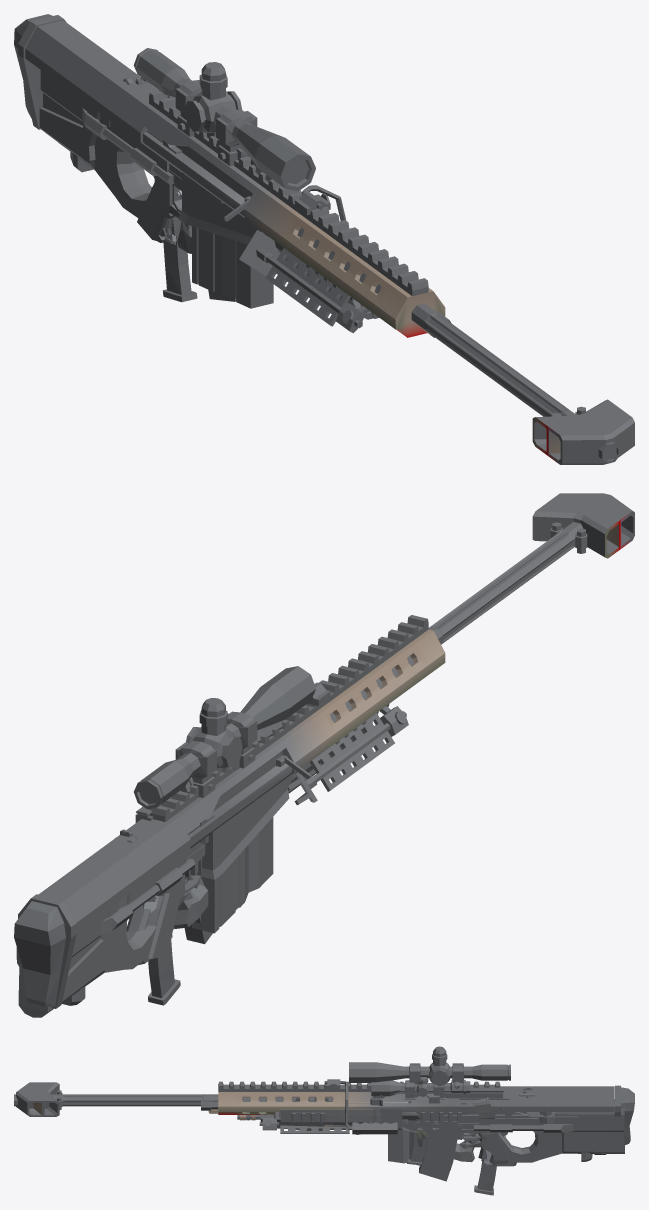
The model's file is weapons.glb.
The picture shows the model from 3 angles, top to bottom: view 1: azimuth 30°, elevation 25°; view 2: azimuth 150°, elevation 25°; view 3: azimuth 270°, elevation 25°; orthographic projection. The views are drawn at different scales.
Parts seen in each view (by area): view 1: launcher, petal, ak47, smg; view 2: launcher, petal, ak47, smg, sunbeam; view 3: launcher, petal, ak47, sunbeam, sniper, smg.
Part boxes in pixels (x1,y1,x2,y2): launcher: (14,14,634,464); petal: (40,70,191,253); ak47: (70,108,434,337); smg: (123,77,197,302); launcher: (14,493,634,1008); petal: (16,845,208,1017); ak47: (62,721,366,1005); smg: (115,829,208,1005); sunbeam: (126,790,212,944); launcher: (14,1046,634,1169); petal: (416,1094,624,1162); ak47: (208,1077,592,1166); sunbeam: (348,1087,514,1181); sniper: (201,1101,606,1164); smg: (415,1087,534,1195).
Size of the model in its own units: 0.1849 by 0.4676 by 1.84.
